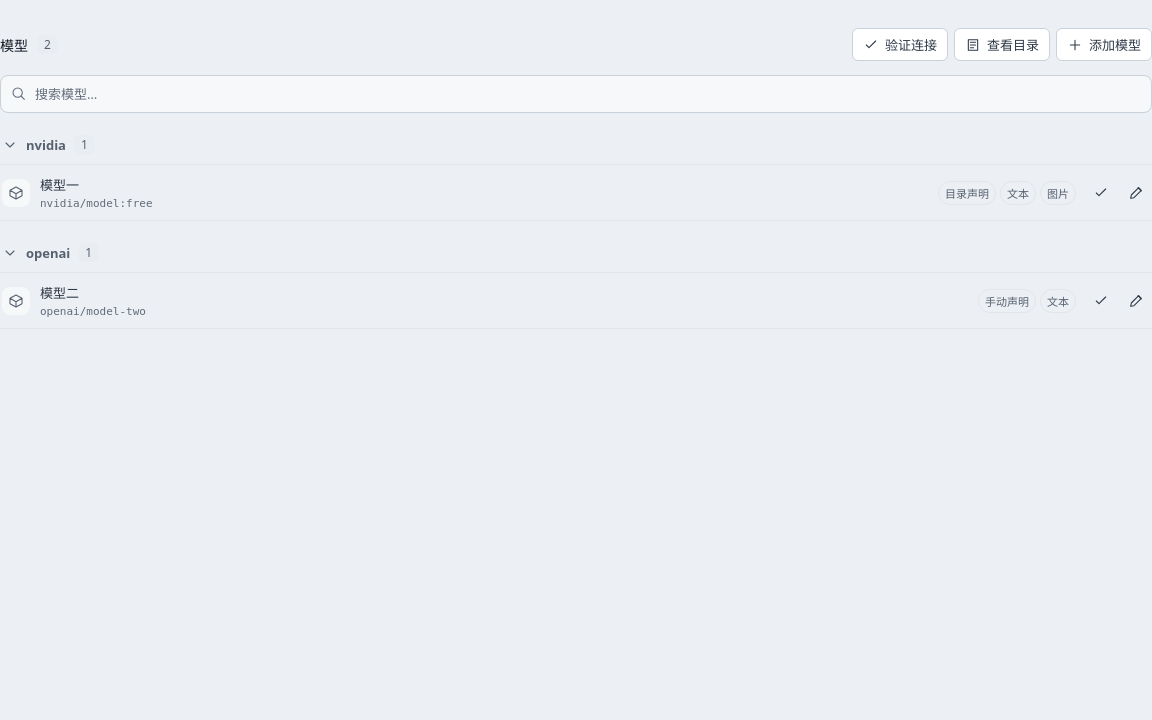
it: 紧凑模型管理 › 目录读取失败可见且不自动重试、不显示假已添加
This screenshot has width=1152, height=720.
Expected: the text "模型一" is shown, [40, 176, 79, 194]
Click the button "查看目录" at (1002, 44), box [954, 28, 1050, 61]
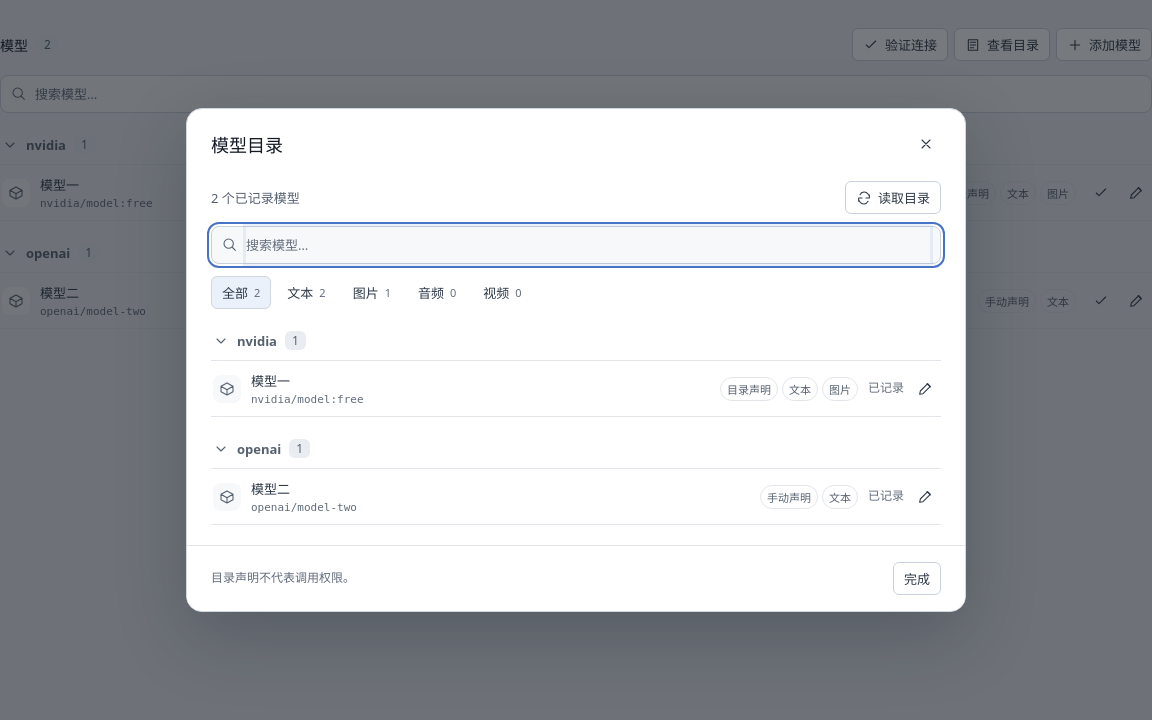
Click the button "读取目录" at (893, 198), box [845, 181, 941, 214]
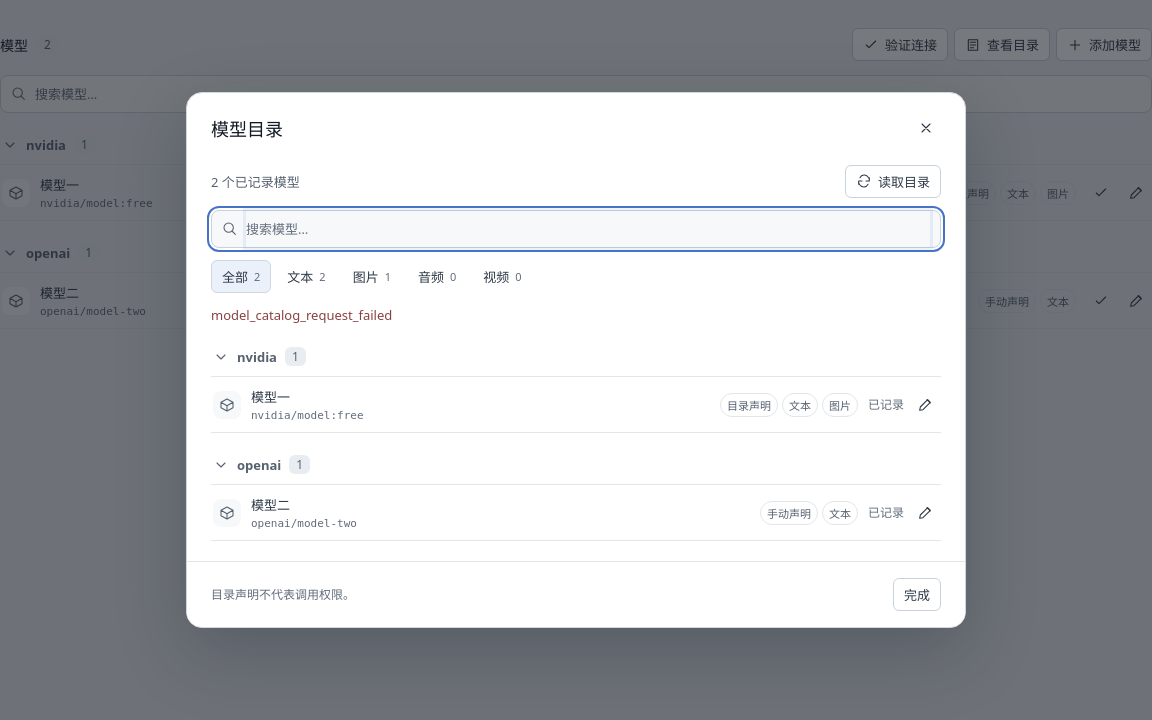
Expected: the message "model_catalog_request_failed" is shown, [211, 306, 392, 324]
